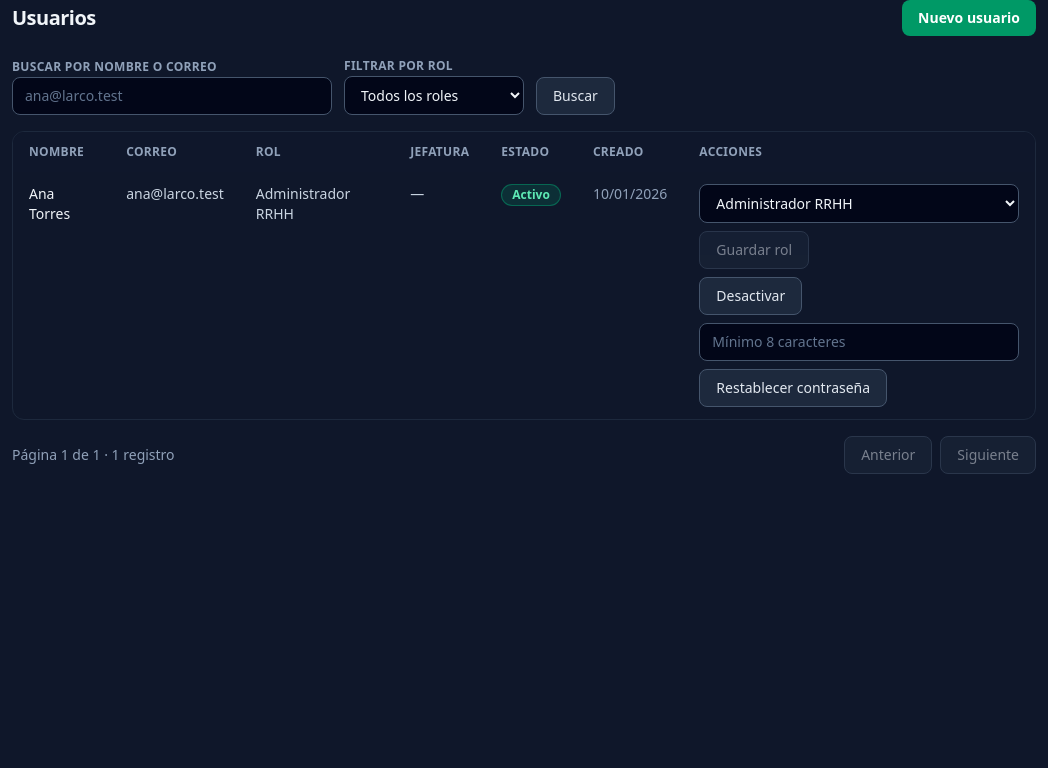
it: listado de usuarios (gestión exclusiva del superusuario) › una contraseña corta no se envía: aviso local de mínimo 8 caracteres
The width and height of the screenshot is (1048, 768).
Expected: the text "Ana Torres" is shown, [13,172,110,419]
Type "1234" into the password field named "Nueva contraseña de Ana Torres" at (859, 342), box [699,323,1019,361]
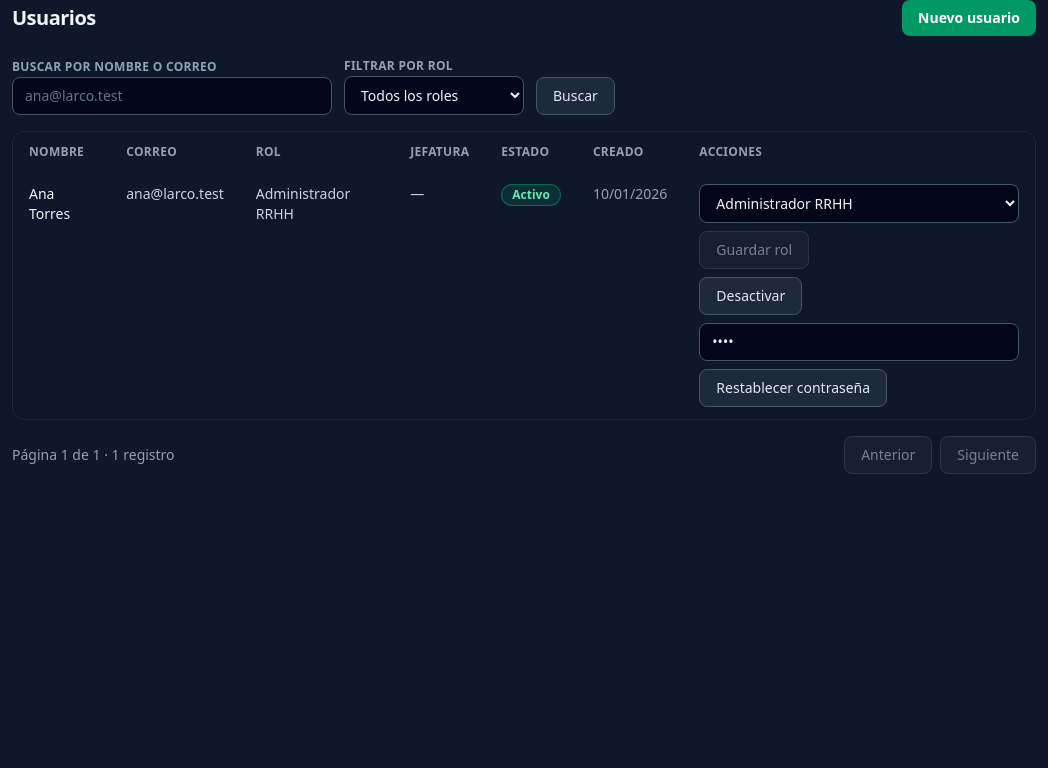
Click the button named "Restablecer contraseña de Ana Torres" at (793, 388), box [699,369,887,407]
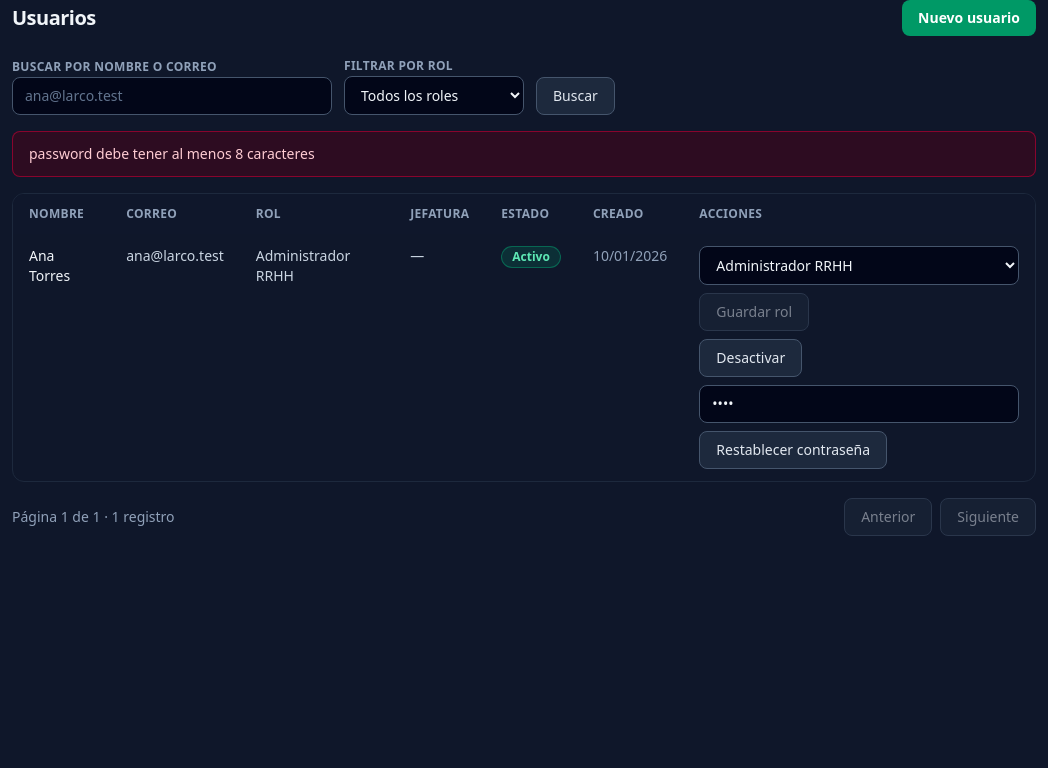
Expected: the message reads "password debe tener al menos 8 caracteres", [29,144,315,163]
